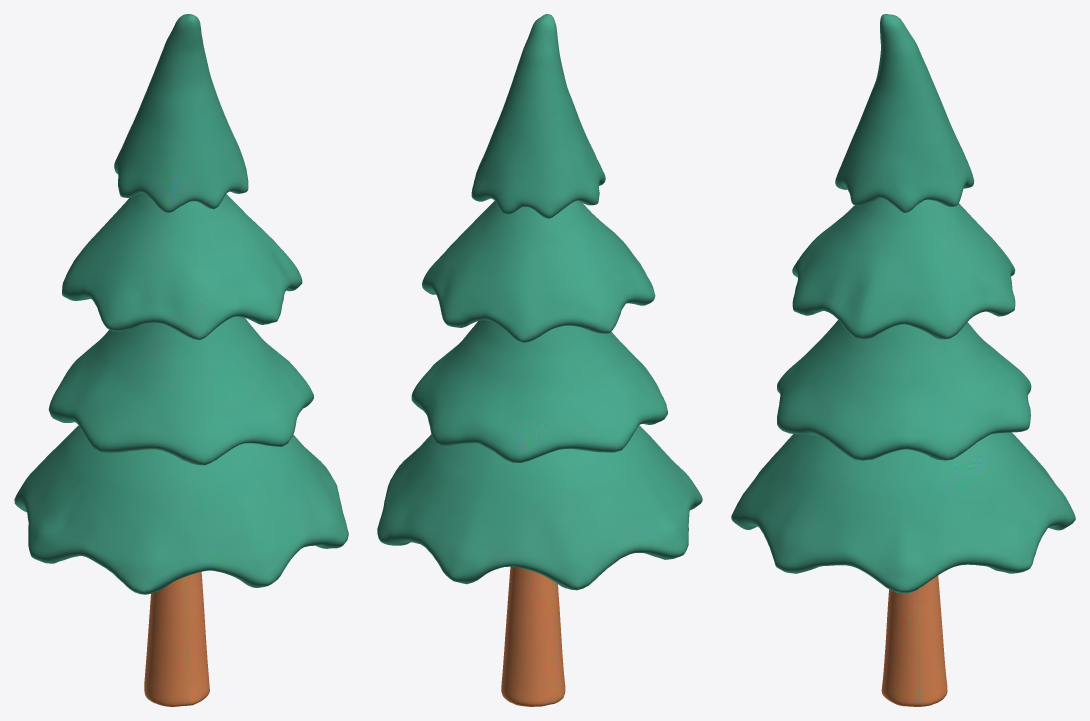
Rendered from pine_tree.glb.
3 views of the same model, side by side, from view 1: azimuth 30°, elevation 25°; view 2: azimuth 150°, elevation 25°; view 3: azimuth 270°, elevation 25° (orthographic). The views are drawn at different scales.
Visible parts, largest first — view 1: model; view 2: model; view 3: model.
Boxes of the visible parts, bbox=[...] form: model: bbox=[14, 14, 348, 706]; model: bbox=[377, 14, 702, 706]; model: bbox=[731, 14, 1075, 706].
Bounding box in the file's own units: 0.8702 × 1.9 × 0.8726.
1 material, 1 textured.
